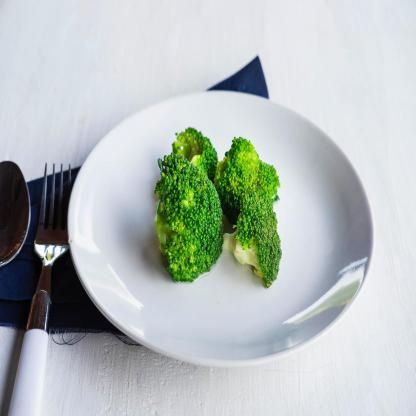broccoli: (155, 126, 284, 288)
